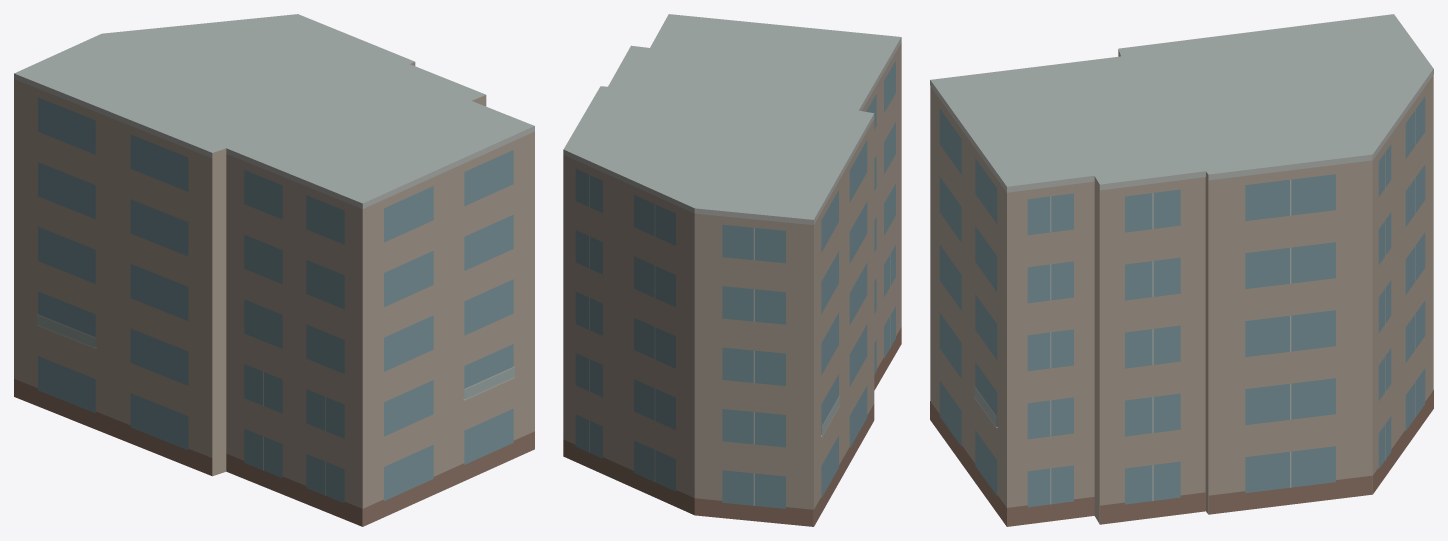
File: survey-upis-32965021.glb
3 views of the same model, side by side, from view 1: azimuth 30°, elevation 25°; view 2: azimuth 150°, elevation 25°; view 3: azimuth 270°, elevation 25° (orthographic). The views are drawn at different scales.
Parts seen in each view (by area): view 1: survey-upis-32965021.tmp; view 2: survey-upis-32965021.tmp; view 3: survey-upis-32965021.tmp.
Part boxes in pixels (box(x1,y1,x2,y2)): survey-upis-32965021.tmp: box(14, 14, 534, 526); survey-upis-32965021.tmp: box(563, 14, 901, 526); survey-upis-32965021.tmp: box(930, 14, 1433, 526).
Size of the model in its own units: 15.49 by 14.2 by 19.07.
